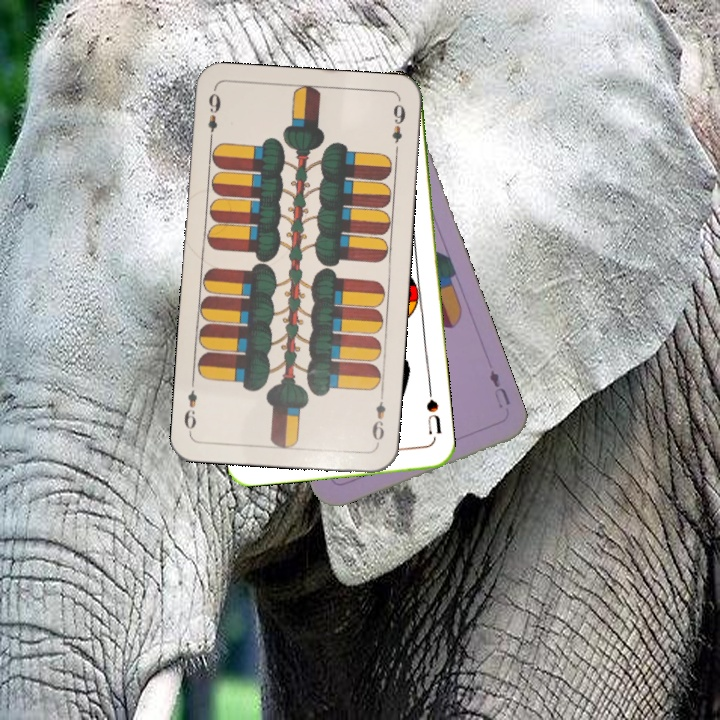E9: (203, 89, 223, 146), (368, 398, 388, 448)
EU: (485, 366, 513, 408)
SU: (423, 384, 444, 443)
